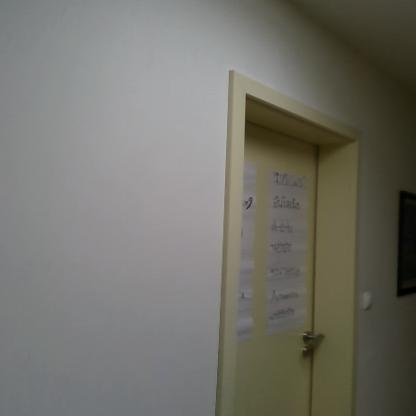door: (237, 119, 316, 416)
lever: (297, 330, 330, 358)
